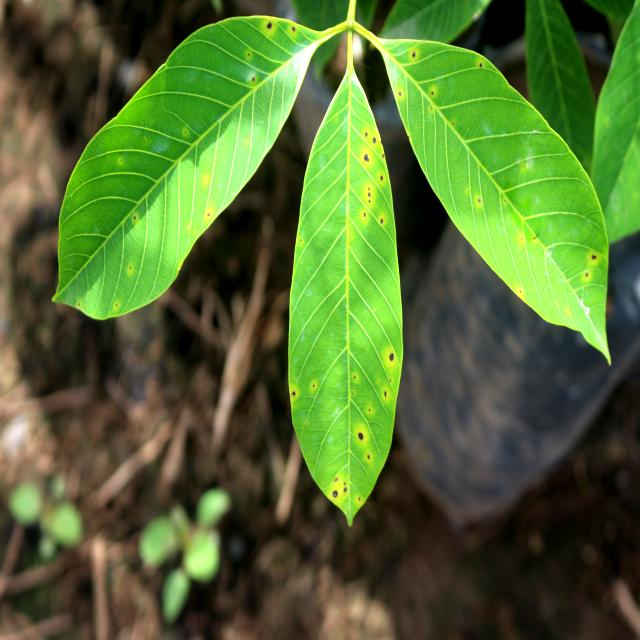Colletotrichum: (358, 432, 364, 440), (389, 353, 394, 361), (364, 154, 369, 162), (332, 491, 338, 497), (267, 23, 272, 29)
